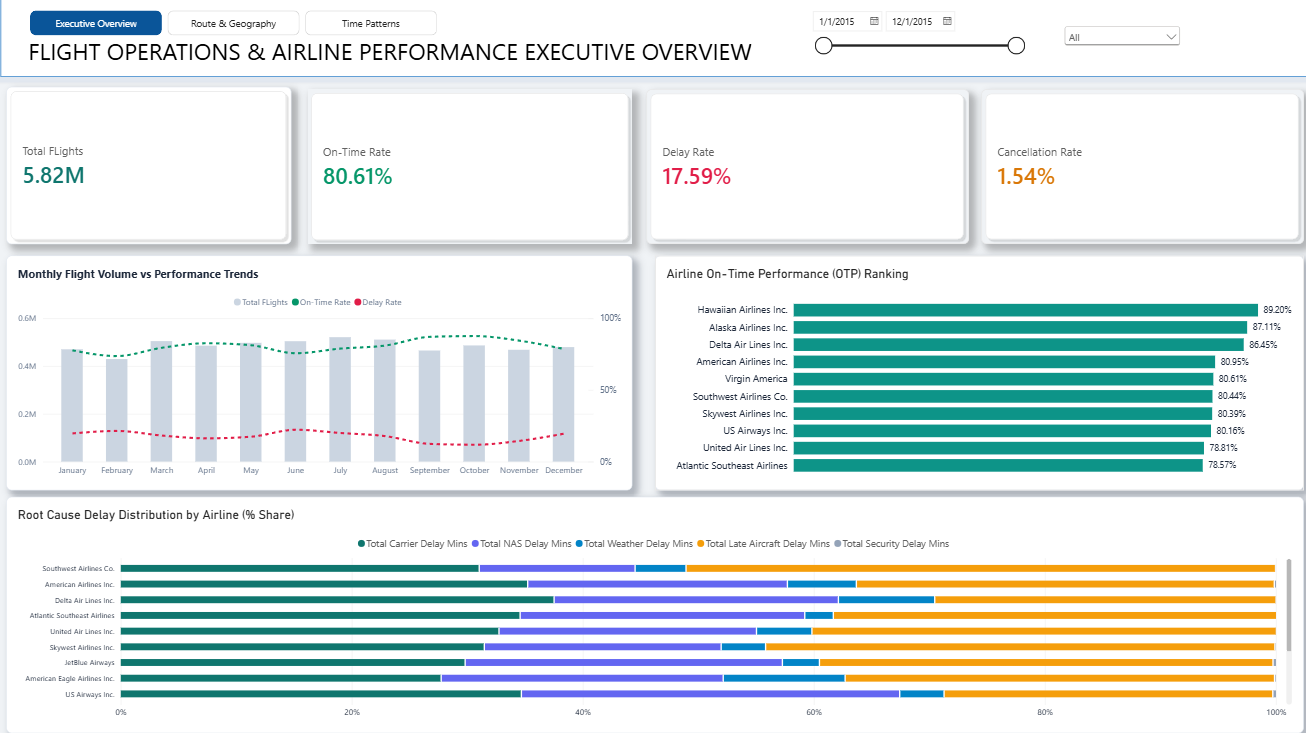

Layout of this report page (visuals, bound fields, positions):
{"tool":"powerbi","page":{"name":"Executive Overview","canvas":[1920,1080],"ordinal":0},"visuals":[{"type":"shape","box":[0,0,1920.4,129.7],"z":0},{"type":"slicer","fields":{"Values":["analytics airline_monthly_summary.airline_name"]},"box":[1543.6,43.4,177,43.2],"z":1000},{"type":"slicer","fields":{"Values":["analytics airline_monthly_summary.flight_month"]},"box":[1176.3,18.1,318.5,86.9],"z":2000},{"type":"cardVisual","fields":{"Data":["_Measures.Total FLights"]},"box":[16.3,135.7,412.6,228],"z":3000},{"type":"cardVisual","fields":{"Data":["_Measures.On-Time Rate"]},"box":[452.4,139.3,470.5,224.4],"z":4000},{"type":"cardVisual","fields":{"Data":["_Measures.Delay Rate"]},"box":[942.8,139.3,466.9,224.4],"z":5000},{"type":"cardVisual","fields":{"Data":["_Measures.Cancellation Rate"]},"box":[1427.8,139.3,466.9,224.4],"z":6000},{"type":"lineClusteredColumnComboChart","title":"Monthly Flight Volume vs Performance Trends","fields":{"Category":["analytics airline_monthly_summary.flight_month.Variation.Date Hierarchy.Month"],"Y":["_Measures.Total FLights"],"Y2":["_Measures.On-Time Rate","_Measures.Delay Rate"]},"box":[16.3,380,906.6,340.2],"z":7000},{"type":"clusteredBarChart","title":"Airline On-Time Performance (OTP) Ranking","fields":{"Category":["analytics airline_monthly_summary.airline_name"],"Y":["_Measures.On-Time Rate"]},"box":[955.5,380,939.2,340.2],"z":8000},{"type":"hundredPercentStackedBarChart","title":"Root Cause Delay Distribution by Airline (% Share)","fields":{"Category":["analytics airline_monthly_summary.airline_name"],"Y":["_Measures.Total Carrier Delay Mins","_Measures.Total NAS Delay Mins","_Measures.Total Weather Delay Mins","_Measures.Total Late Aircraft Delay Mins","_Measures.Total Security Delay Mins"]},"box":[16.3,729.3,1878.4,342],"z":9000},{"type":"pageNavigator","box":[50.7,25.3,589.9,36.2],"z":10000}]}

Visuals, with their boxes in screenshot pixels (x1, y1, x2, y2), scaled from the page's 1920x1080 canvas onto the 1306x733 screenshot:
shape: crop(0, 0, 1305, 88)
slicer - analytics airline_monthly_summary.airline_name: crop(1050, 29, 1170, 59)
slicer - analytics airline_monthly_summary.flight_month: crop(800, 12, 1017, 71)
cardVisual - _Measures.Total FLights: crop(11, 92, 292, 247)
cardVisual - _Measures.On-Time Rate: crop(308, 95, 628, 247)
cardVisual - _Measures.Delay Rate: crop(641, 95, 959, 247)
cardVisual - _Measures.Cancellation Rate: crop(971, 95, 1289, 247)
"Monthly Flight Volume vs Performance Trends" lineClusteredColumnComboChart: crop(11, 258, 628, 489)
"Airline On-Time Performance (OTP) Ranking" clusteredBarChart: crop(650, 258, 1289, 489)
"Root Cause Delay Distribution by Airline (% Share)" hundredPercentStackedBarChart: crop(11, 495, 1289, 727)
pageNavigator: crop(34, 17, 436, 42)
